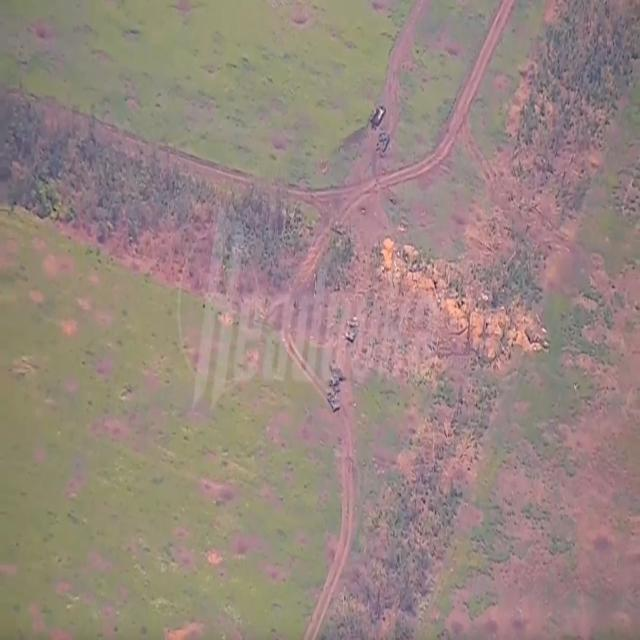APC: (328, 390, 343, 416)
Destroyed: (329, 357, 347, 384), (371, 105, 387, 132)
MBT: (345, 316, 361, 348), (376, 129, 394, 157)
